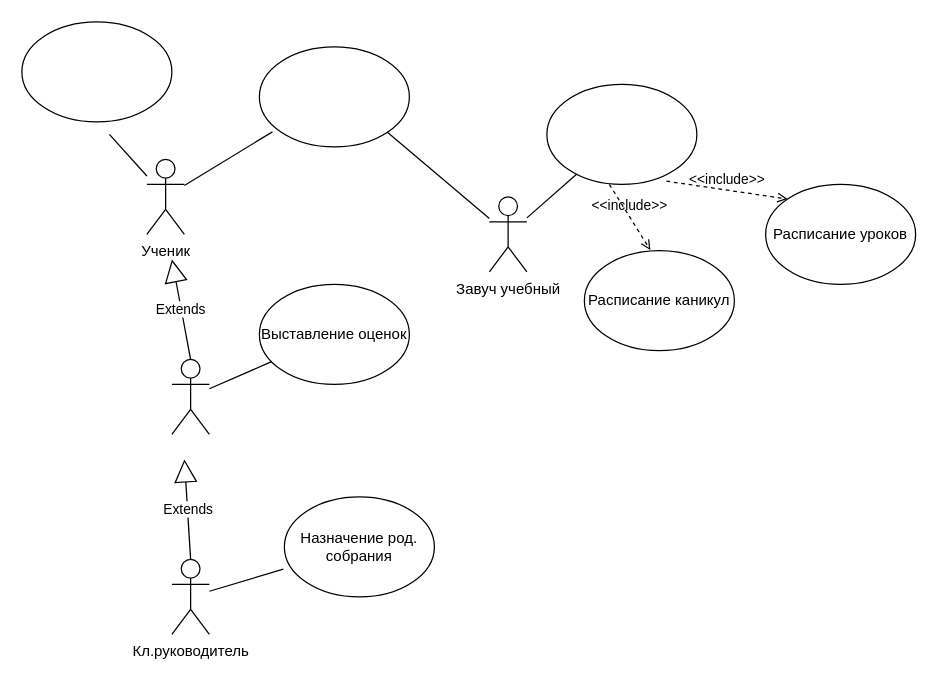
Some shapes in this 938 by 683 pixel diagram are drawn without their labels. Here are the shapes that lost their labels. From the top down, the centre of each, then its label:
At [96,71]: "Просмотр расписания".
At [333,96]: "Просмотр оценок".
At [621,133]: "Составление расписания".
At [190,396]: "Учитель".
